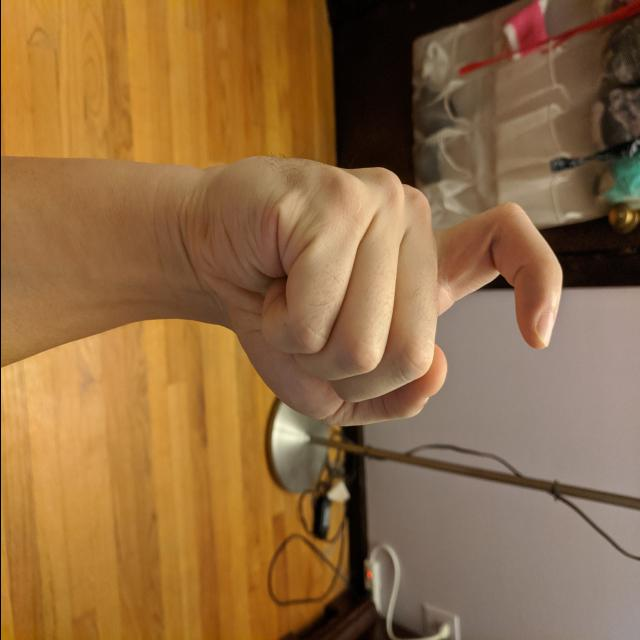X: (196, 148, 567, 434)
